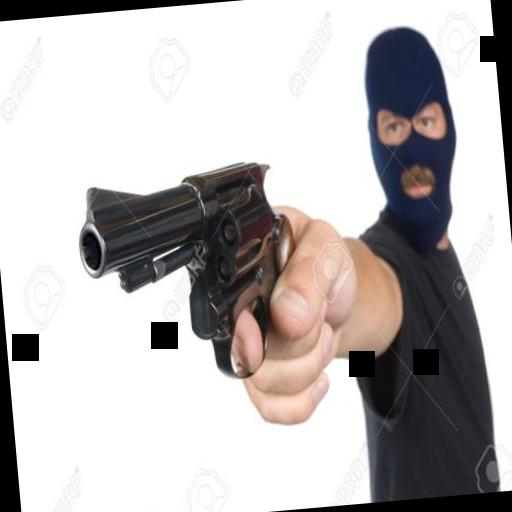Handgun: (68, 123, 312, 415)
